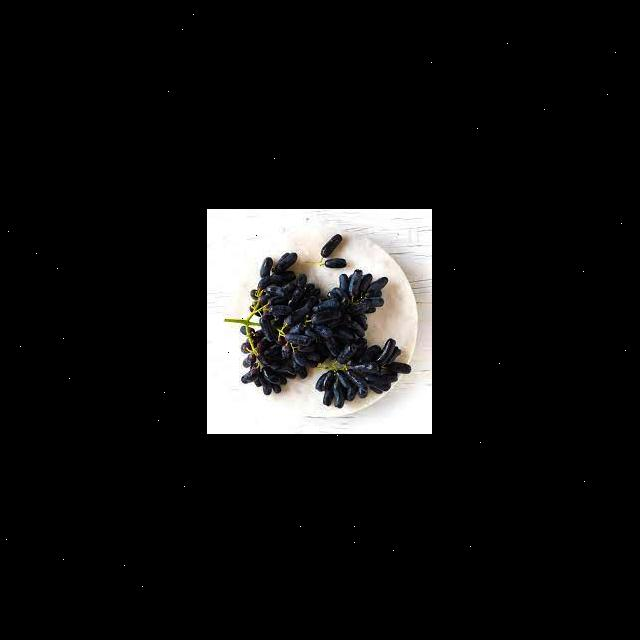grape: (224, 233, 410, 408)
